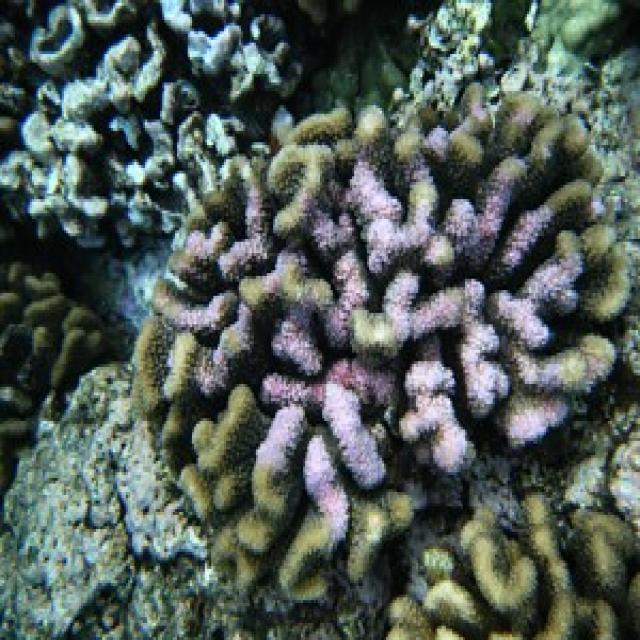Bleached: (1, 365, 206, 635)
Healthy: (138, 86, 630, 598), (1, 1, 302, 248), (387, 493, 639, 638), (1, 263, 114, 487)
